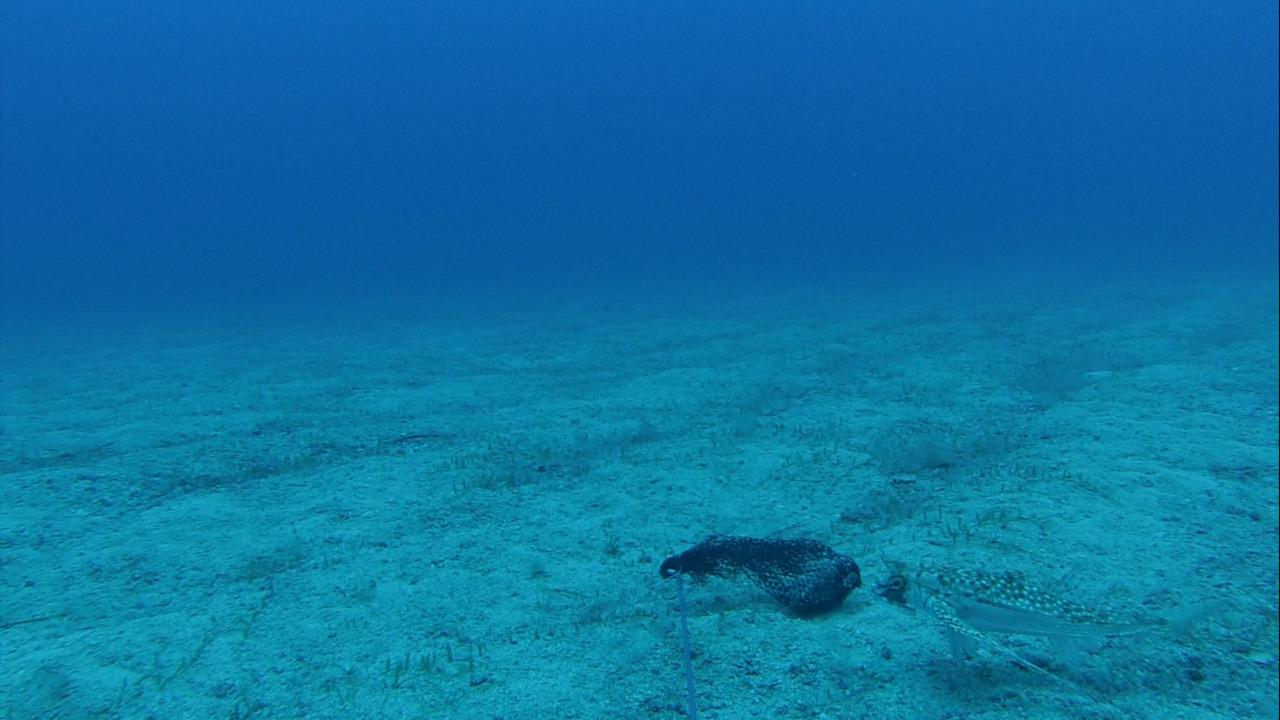dactylopterus: (869, 556, 1179, 716)
